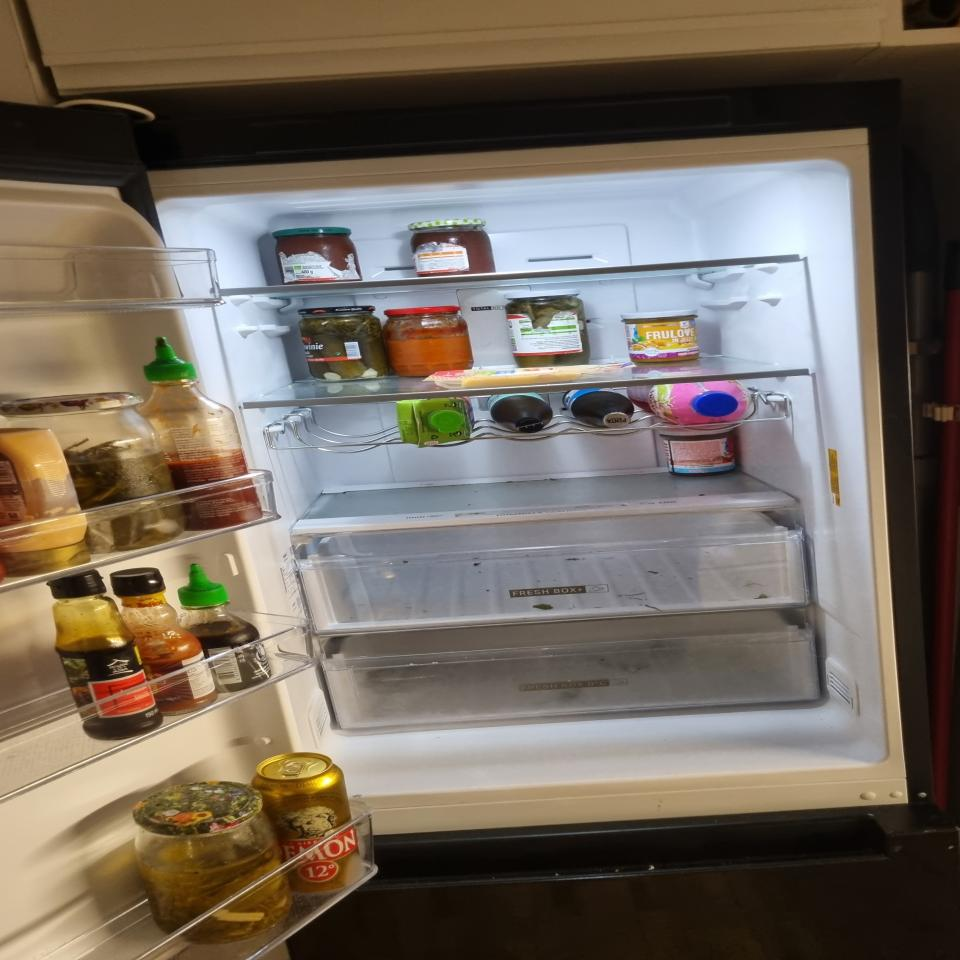Queso: (424, 364, 631, 388)
